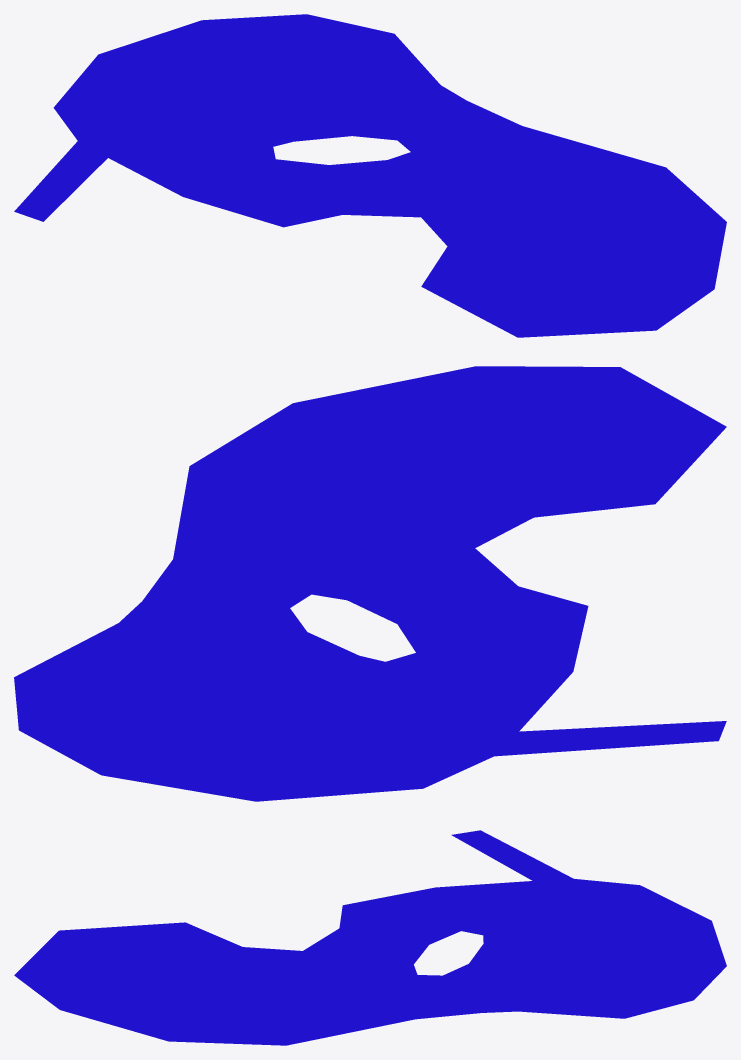
The model's file is did_Park_Mesh_good.fbx.
The picture shows the model from 3 angles, top to bottom: view 1: azimuth 30°, elevation 25°; view 2: azimuth 150°, elevation 25°; view 3: azimuth 270°, elevation 25°; orthographic projection. The views are drawn at different scales.
Parts seen in each view (by area): view 1: water; view 2: water; view 3: water.
Boxes of the visible parts, left/top/right/bottom form: water: left=14, top=14, right=726, bottom=337; water: left=14, top=366, right=726, bottom=801; water: left=14, top=830, right=726, bottom=1045.
Size of what is drawn, in the model's own units: 2090 by 0.000476 by 2924.
